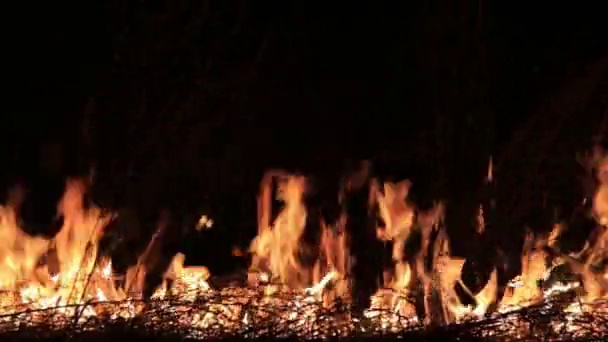fire: (51, 177, 106, 302), (251, 170, 307, 287), (373, 177, 413, 325), (1, 205, 44, 301), (581, 179, 608, 302), (319, 217, 352, 303), (436, 254, 465, 328), (509, 248, 543, 309), (164, 252, 209, 298)
